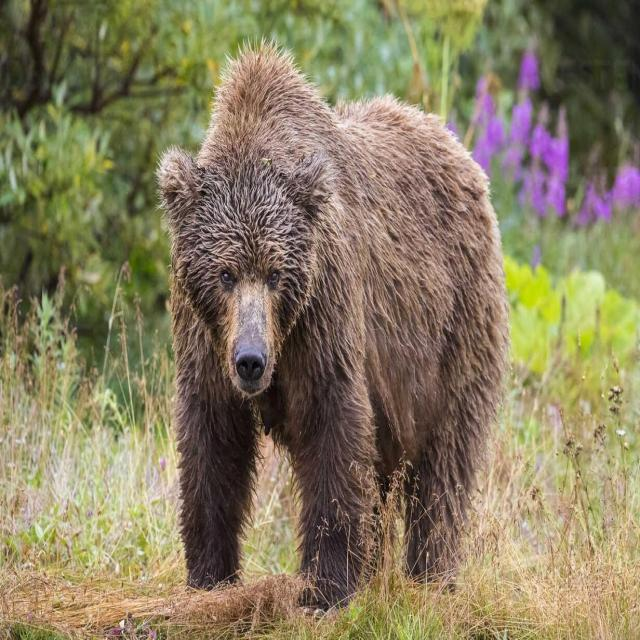Bear: (156, 41, 512, 617)
